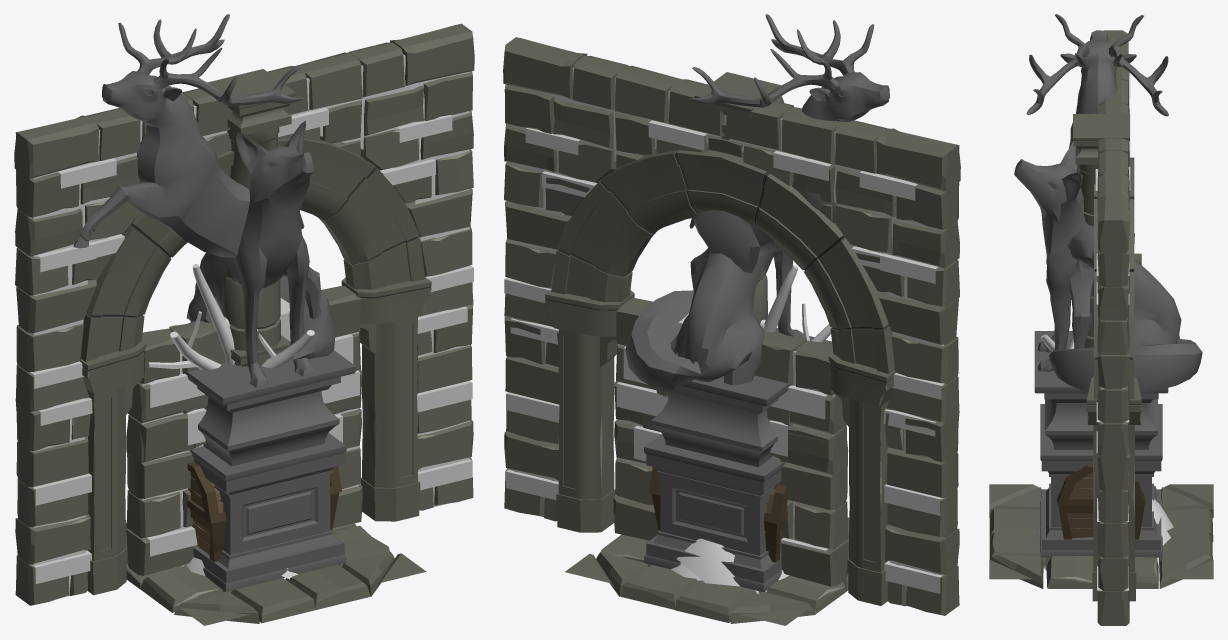
The model's file is ruins.glb.
The picture shows the model from 3 angles, left to right: view 1: azimuth 30°, elevation 25°; view 2: azimuth 150°, elevation 25°; view 3: azimuth 270°, elevation 25°; orthographic projection. The views are drawn at different scales.
Visible parts, largest first — view 1: Wall_ArchRound_Overgrown_Cube.038, Arch_Round_Cylinder.004, Statue_Fox_Cylinder.036, Statue_Stag_Cylinder.029, Wall_Overgrown_Cube.060, Floor_Diamond_Cube.048, Column_Round_Cylinder.023, DeadTree_1_Cylinder.038, Chest_Gold_Top_Cylinder.041, Chest_Base_Cube.009, Wall_Broken_Cube.014; view 2: Wall_ArchRound_Overgrown_Cube.038, Arch_Round_Cylinder.004, Statue_Fox_Cylinder.036, Statue_Stag_Cylinder.029, Wall_Overgrown_Cube.060, Wall_Broken_Cube.014, Floor_Diamond_Cube.048, Column_Round_Cylinder.023, Bush_Round_Cylinder.028, DeadTree_1_Cylinder.038, Chest_Top_Cylinder.034, Chest_Base_Cube.009; view 3: Statue_Fox_Cylinder.036, Wall_ArchRound_Overgrown_Cube.038, Statue_Stag_Cylinder.029, Floor_Diamond_Cube.048, Arch_Round_Cylinder.004, Column_Round_Cylinder.023, Chest_Base_Cube.009, Chest_Gold_Top_Cylinder.041, Chest_Top_Cylinder.034, Bush_Round_Cylinder.028.
Part boxes in pixels (x1,y1,x2,y2): Wall_ArchRound_Overgrown_Cube.038: (14,23,474,605); Arch_Round_Cylinder.004: (80,138,431,595); Statue_Fox_Cylinder.036: (186,120,355,591); Statue_Stag_Cylinder.029: (73,14,345,591); Wall_Overgrown_Cube.060: (126,285,362,575); Floor_Diamond_Cube.048: (126,523,426,625); Column_Round_Cylinder.023: (207,69,295,366); DeadTree_1_Cylinder.038: (147,264,314,369); Chest_Gold_Top_Cylinder.041: (187,462,341,523); Chest_Base_Cube.009: (190,493,338,562); Wall_Broken_Cube.014: (126,405,206,568); Wall_ArchRound_Overgrown_Cube.038: (503,37,960,615); Arch_Round_Cylinder.004: (545,150,895,605); Statue_Fox_Cylinder.036: (625,96,832,584); Statue_Stag_Cylinder.029: (644,14,889,591); Wall_Overgrown_Cube.060: (614,298,848,585); Wall_Broken_Cube.014: (613,387,848,586); Floor_Diamond_Cube.048: (565,517,849,625); Column_Round_Cylinder.023: (694,72,781,324); Bush_Round_Cylinder.028: (671,538,788,594); DeadTree_1_Cylinder.038: (705,259,831,342); Chest_Top_Cylinder.034: (648,467,787,524); Chest_Base_Cube.009: (651,493,784,562); Statue_Fox_Cylinder.036: (1014,141,1202,557); Wall_ArchRound_Overgrown_Cube.038: (1095,30,1130,625); Statue_Stag_Cylinder.029: (1026,14,1168,552); Floor_Diamond_Cube.048: (989,484,1213,588); Arch_Round_Cylinder.004: (1086,157,1141,601); Column_Round_Cylinder.023: (1073,114,1129,347); Chest_Base_Cube.009: (1058,505,1144,539); Chest_Gold_Top_Cylinder.041: (1057,464,1142,505); Chest_Top_Cylinder.034: (1058,467,1145,505); Bush_Round_Cylinder.028: (1037,499,1173,580).
Bounding box in the file's own units: 4 × 4.93 × 2.
